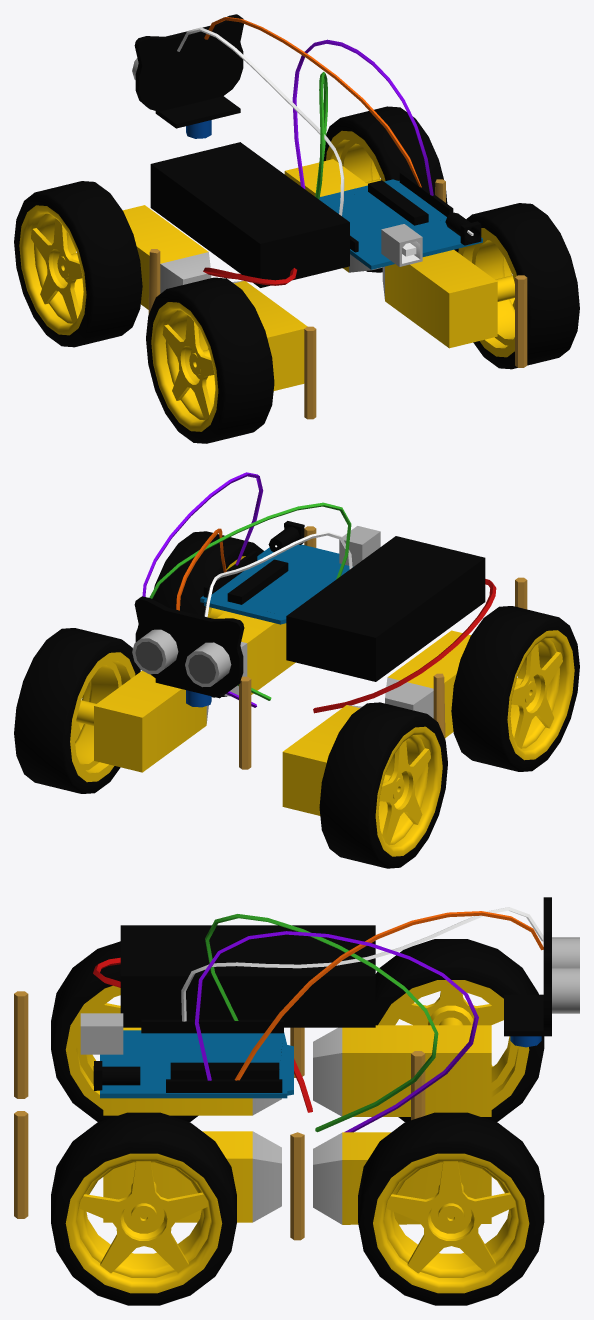
File: cat_car_mesh_wo_body.fbx
3 views of the same model, one above another, from view 1: azimuth 30°, elevation 25°; view 2: azimuth 150°, elevation 25°; view 3: azimuth 270°, elevation 25° (orthographic). The views are drawn at different scales.
Visible parts, largest first — view 1: car; view 2: car; view 3: car.
Part boxes in pixels (x1=…): car: x1=14, y1=14, x2=579, y2=443; car: x1=14, y1=472, x2=579, y2=868; car: x1=14, y1=897, x2=579, y2=1305.
Bounding box in the file's own units: 16.9 × 12.27 × 19.97.
